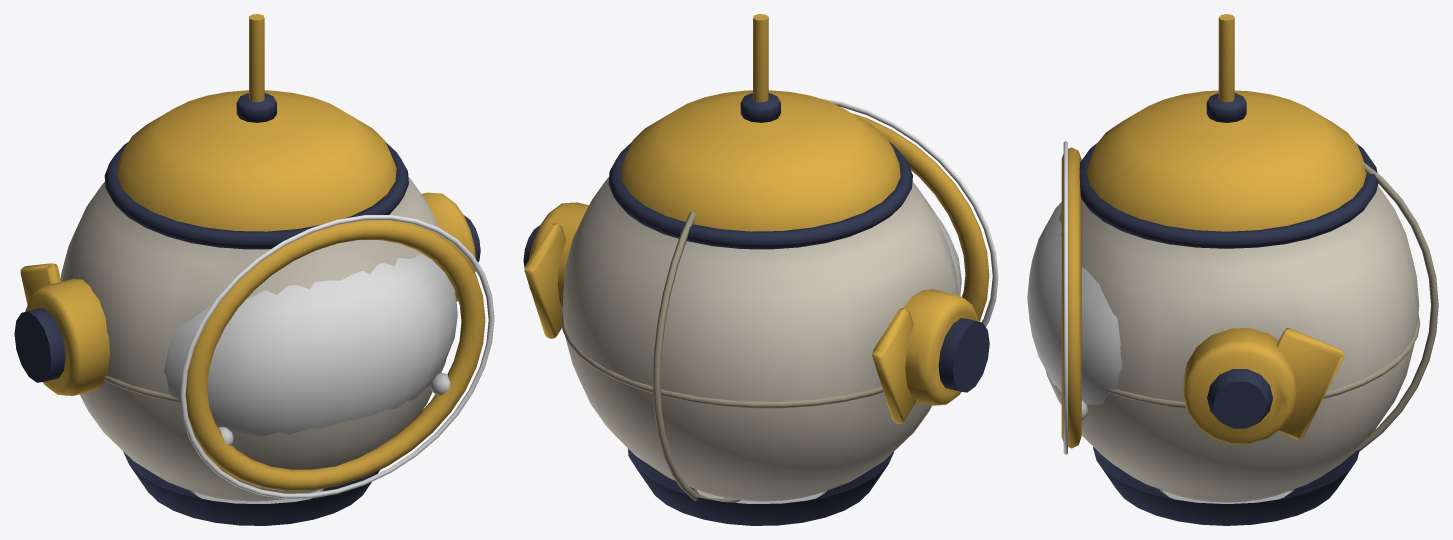
Rendered from lumi.glb.
The picture shows the model from 3 angles, left to right: view 1: azimuth 30°, elevation 25°; view 2: azimuth 150°, elevation 25°; view 3: azimuth 270°, elevation 25°; orthographic projection.
Visible parts, largest first — view 1: lumi; view 2: lumi; view 3: lumi.
Boxes of the visible parts, box(x1,y1,x2,y2) form: lumi: box(14, 14, 494, 525); lumi: box(523, 14, 998, 525); lumi: box(1027, 14, 1438, 525).
Bounding box in the file's own units: 0.75 × 0.785 × 0.6153.
